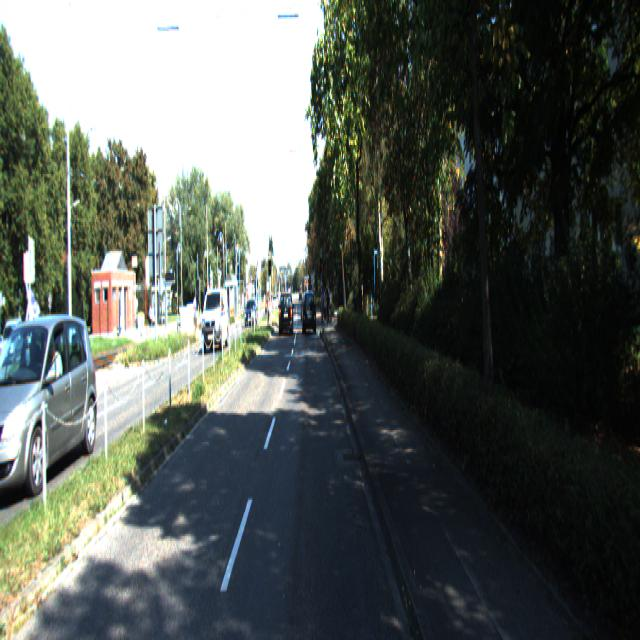Car: (0, 303, 101, 504), (202, 288, 230, 352), (279, 292, 294, 336), (302, 291, 316, 337)
